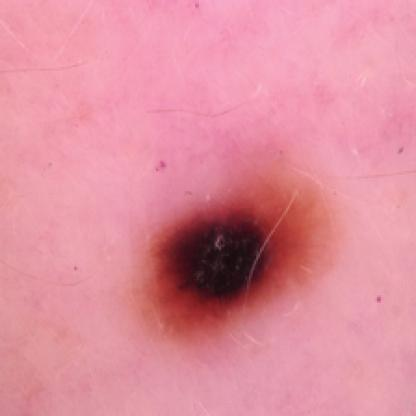benign: (154, 195, 308, 323)
